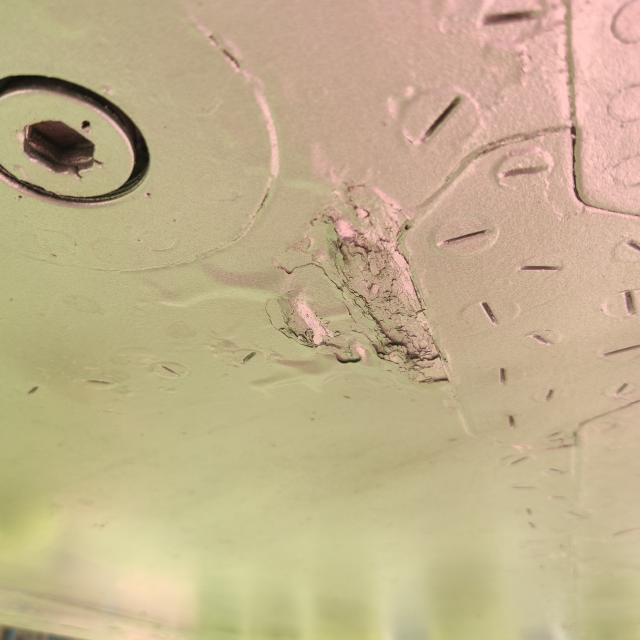paint-off: (252, 166, 465, 397)
